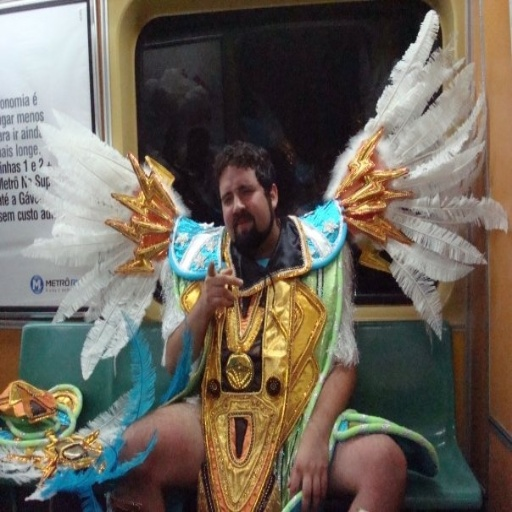hand: (283, 428, 328, 509), (188, 274, 233, 339)
